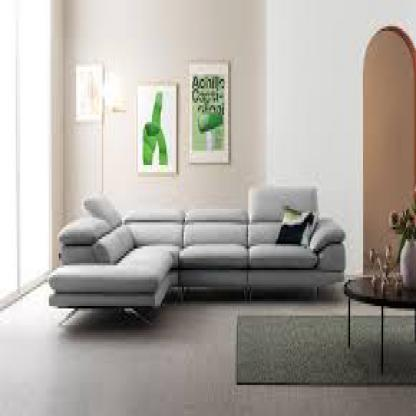sofa: (56, 187, 341, 325)
